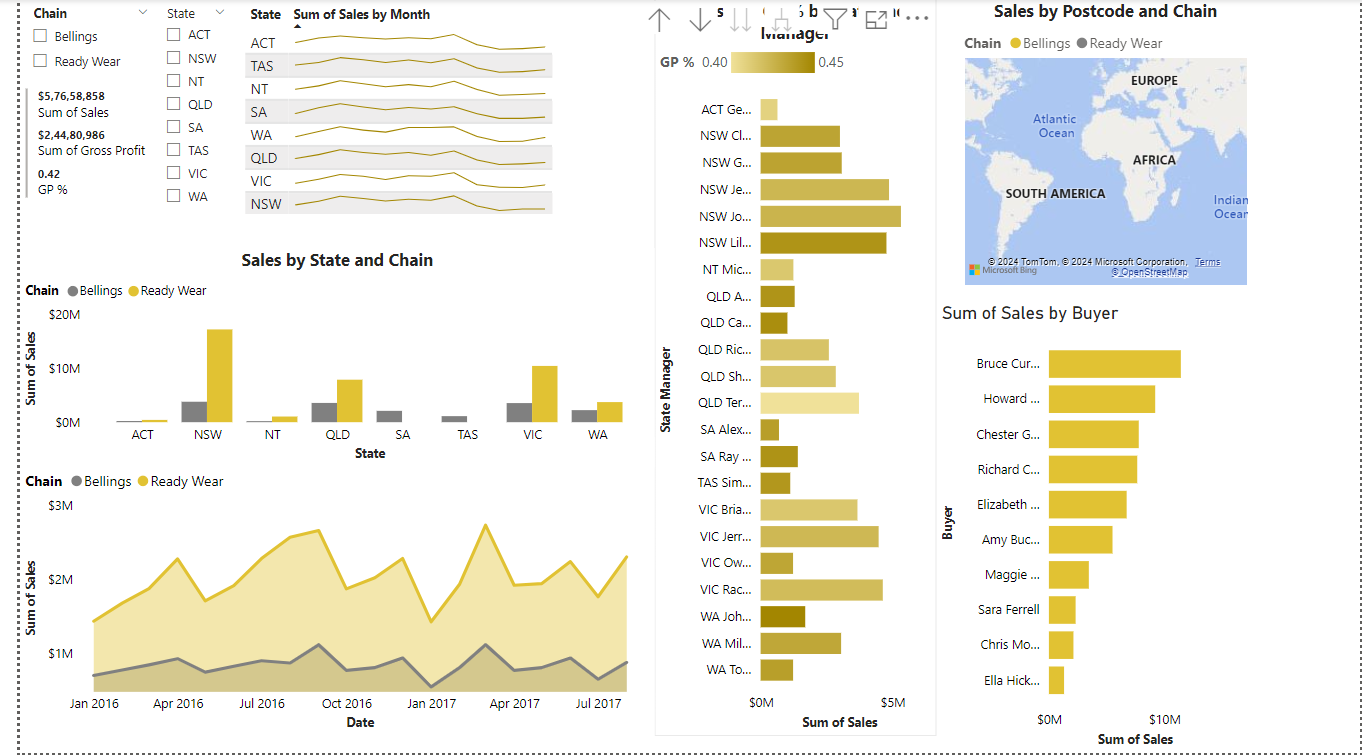

The dashboard page shown, as its layout file describes it:
{"tool":"powerbi","page":{"name":"Page 1REgions & Chain","canvas":[1280,720],"ordinal":1},"visuals":[{"type":"clusteredBarChart","fields":{"Y":["Sales.Sales"],"Category":["Buyers.Buyer"]},"box":[875,290,293,430],"z":0},{"type":"map","title":"Sales by Postcode and Chain","fields":{"Category":["Regions.Postcode, Suburb, Country"],"Size":["Sales.Sales"],"Series":["Sales.Chain"]},"box":[897,0,280,278],"z":1},{"type":"clusteredBarChart","title":"Sales and GP % by State and Manager","fields":{"Y":["Sales.Sales"],"Category":["Regions.State","Managers.Manager"]},"box":[606,0,269,703],"z":2},{"type":"actionButton","box":[0,0,100,40],"z":3},{"type":"areaChart","title":"Sales by  Date and Chain","fields":{"Y":["Sales.Sales"],"Series":["Sales.Chain"],"Category":["Sales.Date"]},"box":[0,418,606,285],"z":4},{"type":"clusteredColumnChart","title":"Sales by State and Chain","fields":{"Y":["Sales.Sales"],"Category":["Regions.State"],"Series":["Sales.Chain"]},"box":[0,238,606,209],"z":5},{"type":"slicer","fields":{"Values":["Sales.Chain"]},"box":[0,0,135,80],"z":6},{"type":"multiRowCard","fields":{"Values":["Sales.Sales","Sales.Gross Profit","Sales.GP %"]},"box":[0,80,128,134],"z":7},{"type":"slicer","fields":{"Values":["Regions.State"]},"box":[128,0,81,214],"z":8},{"type":"tableEx","fields":{"Values":["Regions.State","SparklineData(Sum(Sales.Sales)_[Dates.Date.Variation.Date Hierarchy.Month])"]},"box":[209,0,332,214],"z":9}]}

Visuals, with their boxes in screenshot pixels (x1, y1, x2, y2), scaled from the page's 1280x720 canvas onto the 1362x755 screenshot:
clusteredBarChart - Sales.Sales x Buyers.Buyer: left=931, top=304, right=1243, bottom=754
"Sales by Postcode and Chain" map: left=954, top=0, right=1252, bottom=292
"Sales and GP % by State and Manager" clusteredBarChart: left=645, top=0, right=931, bottom=737
actionButton: left=0, top=0, right=106, bottom=42
"Sales by  Date and Chain" areaChart: left=0, top=438, right=645, bottom=737
"Sales by State and Chain" clusteredColumnChart: left=0, top=250, right=645, bottom=469
slicer - Sales.Chain: left=0, top=0, right=144, bottom=84
multiRowCard - Sales.Sales x Sales.Gross Profit: left=0, top=84, right=136, bottom=224
slicer - Regions.State: left=136, top=0, right=222, bottom=224
tableEx - Regions.State x SparklineData(Sum(Sales.Sales)_[Dates.Date.Variation.Date Hierarchy.Month]): left=222, top=0, right=576, bottom=224
